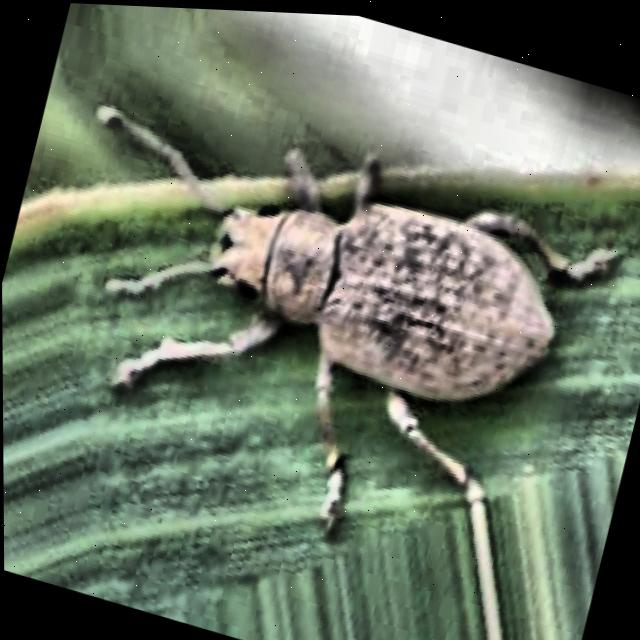Stink bug: (76, 40, 597, 521)
